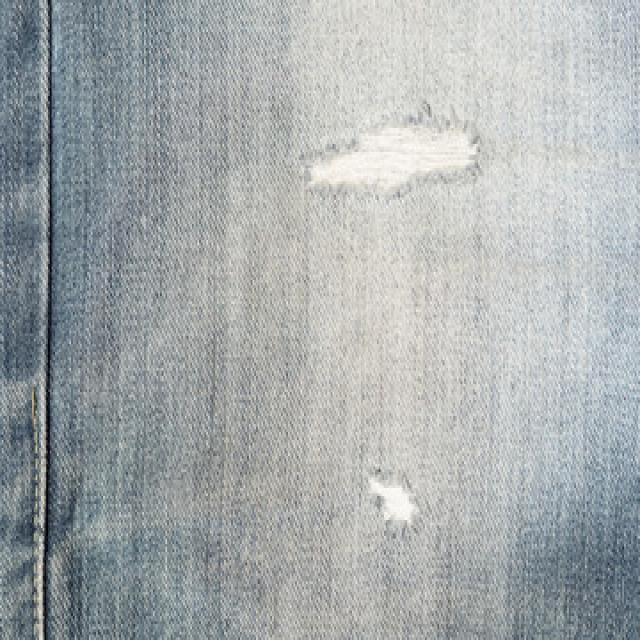Hole: (310, 128, 478, 192), (371, 478, 419, 528)
Line: (30, 0, 51, 640)
